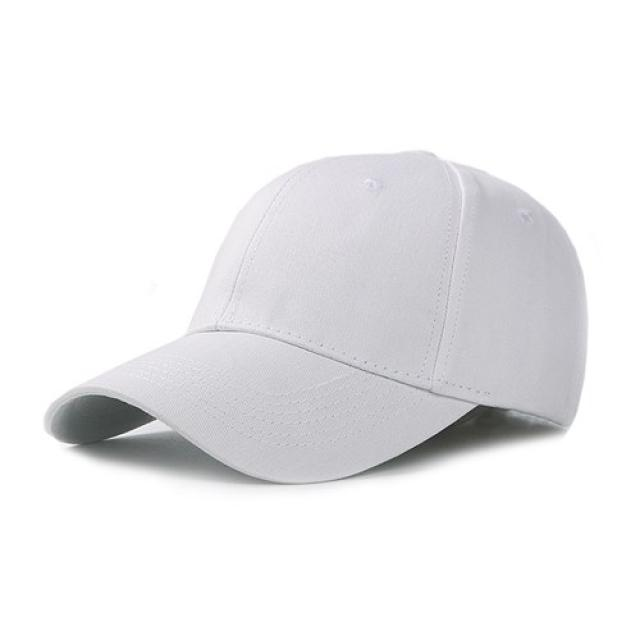Nonhelmet: (41, 145, 590, 485)
